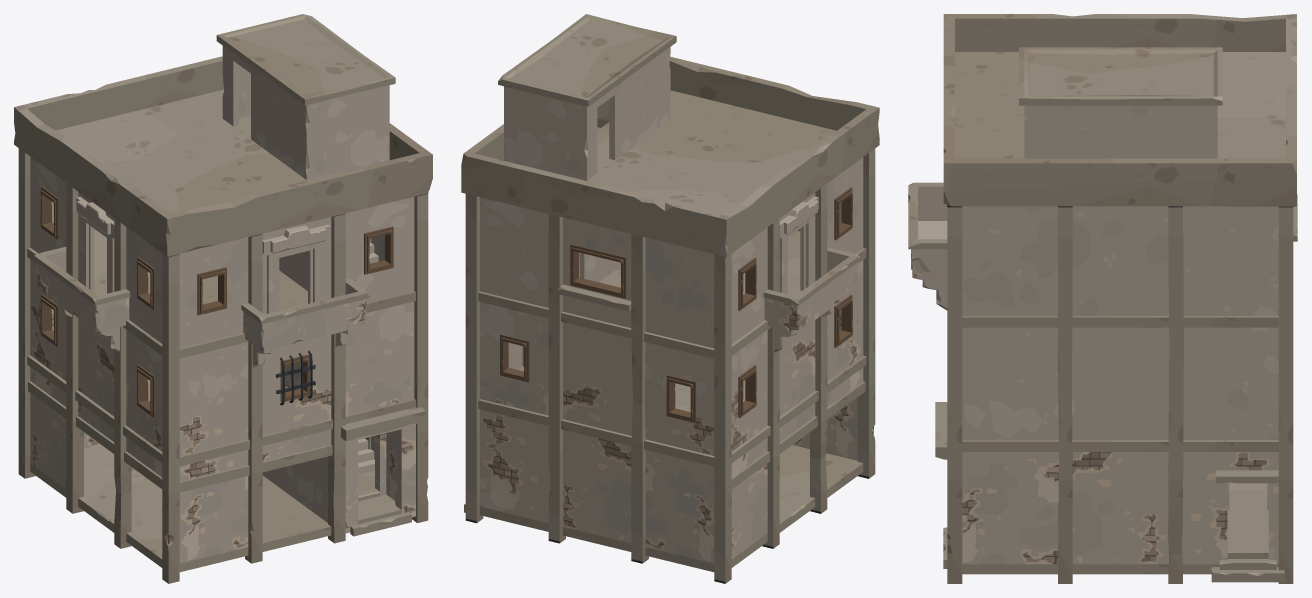
The model's file is SM_Bld_Shop_05.fbx.
3 renders of one model, left to right at view 1: azimuth 30°, elevation 25°; view 2: azimuth 150°, elevation 25°; view 3: azimuth 270°, elevation 25°, orthographic. The views are drawn at different scales.
Parts seen in each view (by area): view 1: SM_Bld_Shop_05; view 2: SM_Bld_Shop_05; view 3: SM_Bld_Shop_05.
Part boxes in pixels (x1,y1,x2,y2): SM_Bld_Shop_05: (14,14,432,583); SM_Bld_Shop_05: (461,14,879,583); SM_Bld_Shop_05: (908,14,1297,583).
Size of the model in its own units: 1068 by 1454 by 1058.
